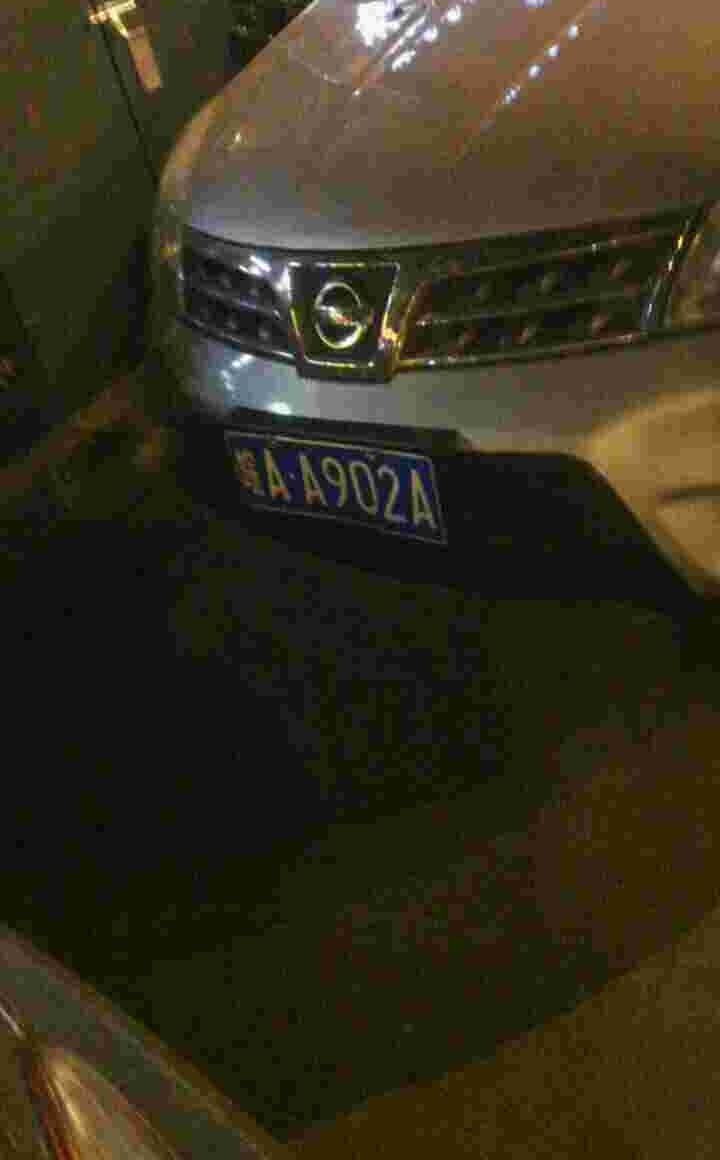plate: (219, 425, 453, 542)
